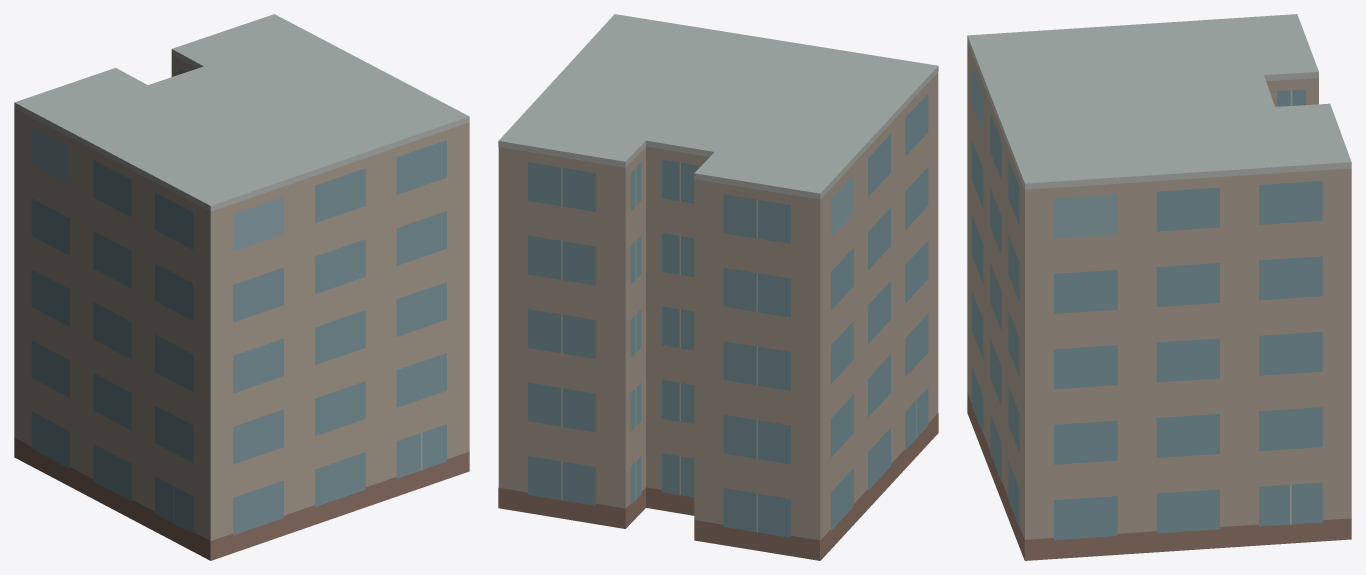
The model's file is survey-upis-32530287.glb.
3 renders of one model, left to right at view 1: azimuth 30°, elevation 25°; view 2: azimuth 150°, elevation 25°; view 3: azimuth 270°, elevation 25°, orthographic. The views are drawn at different scales.
Visible parts, largest first — view 1: survey-upis-32530287.tmp; view 2: survey-upis-32530287.tmp; view 3: survey-upis-32530287.tmp.
Boxes of the visible parts, x1,y1,x2,y2 form: survey-upis-32530287.tmp: (14,14,469,560); survey-upis-32530287.tmp: (498,14,938,560); survey-upis-32530287.tmp: (967,14,1351,560).
Bounding box in the file's own units: 14.47 × 15 × 13.86.
